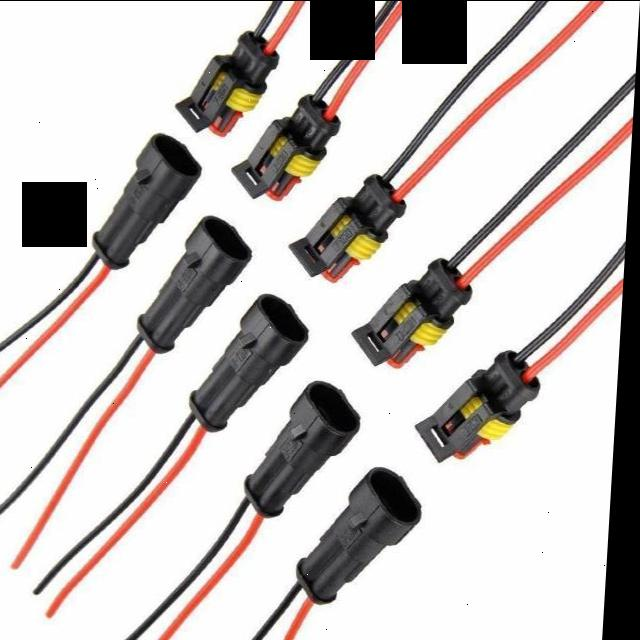connector: (283, 458, 439, 614), (231, 373, 376, 528), (178, 287, 321, 444), (119, 209, 263, 359), (75, 126, 211, 276), (416, 345, 556, 476), (350, 251, 487, 382), (288, 166, 419, 295), (226, 88, 355, 212), (172, 21, 292, 149)
